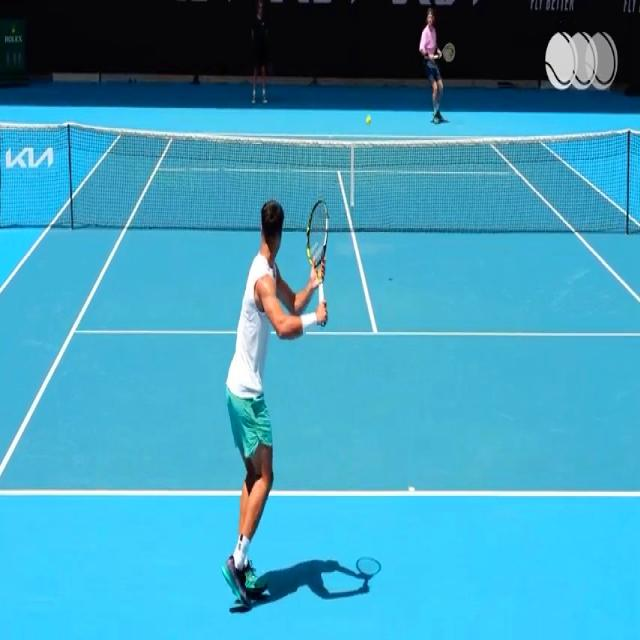forehand-ready: (222, 199, 331, 599)
